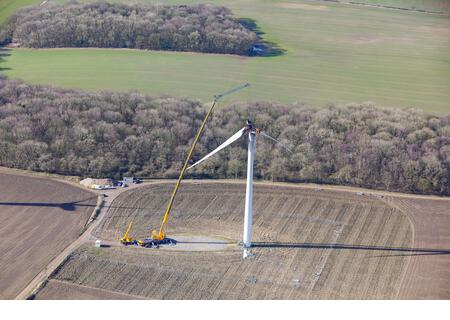faulty: (208, 118, 298, 204)
